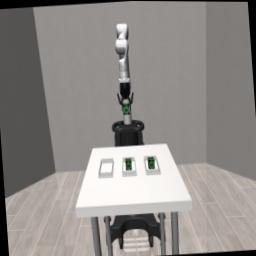cube1: (122, 103, 130, 115)
cube2: (124, 158, 132, 169)
cube3: (147, 156, 155, 168)
